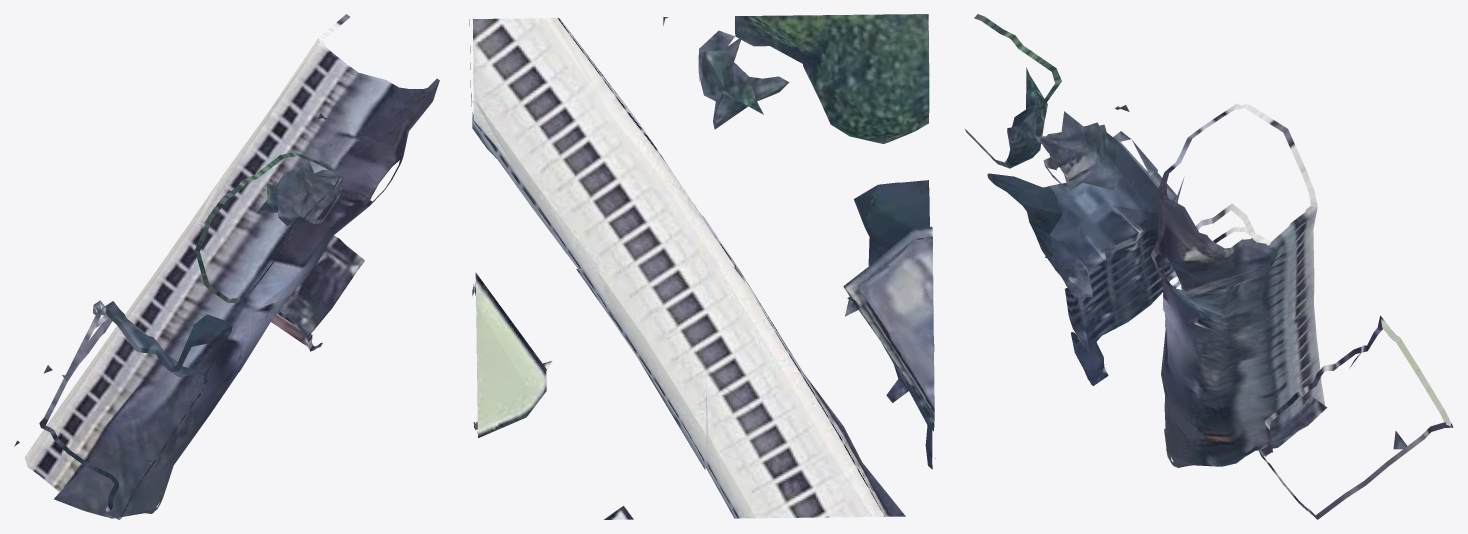
The picture shows the model from 3 angles, left to right: view 1: azimuth 30°, elevation 25°; view 2: azimuth 150°, elevation 25°; view 3: azimuth 270°, elevation 25°; orthographic projection. The views are drawn at different scales.
Bounding box in the file's own units: 42.06 × 39.38 × 36.67.
Materials: 2 (2 with a texture image).
